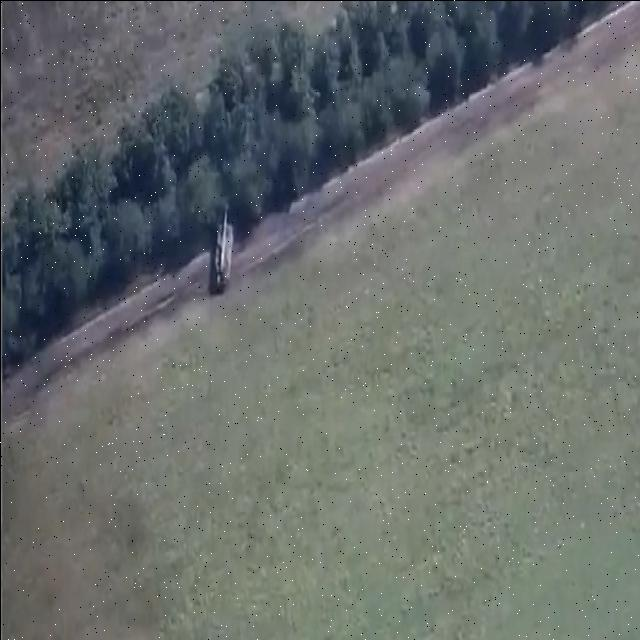ART: (211, 198, 234, 289)
